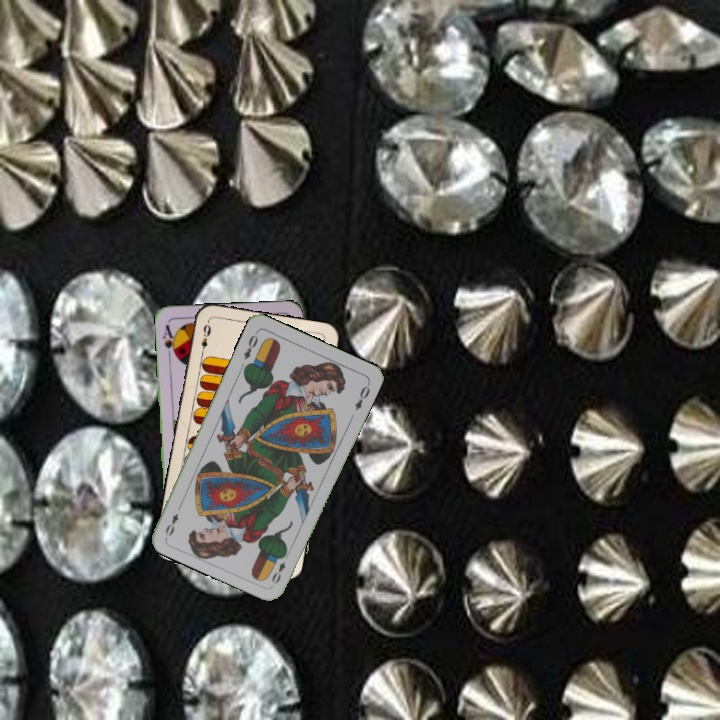E9: (197, 320, 213, 358)
EO: (268, 549, 291, 587), (240, 328, 260, 362)
SA: (159, 320, 179, 360)
